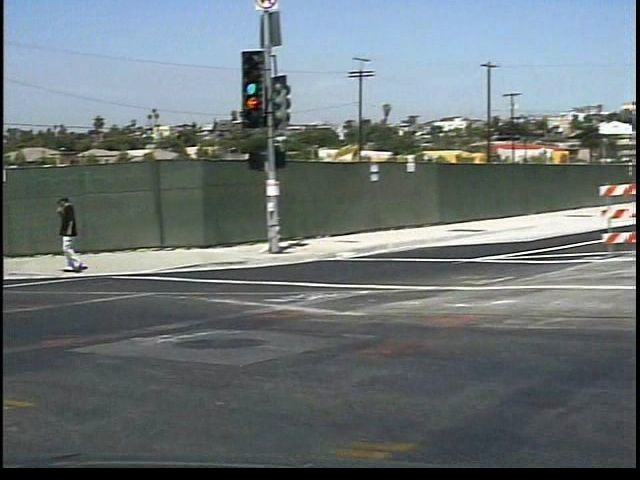person: (42, 190, 83, 282)
